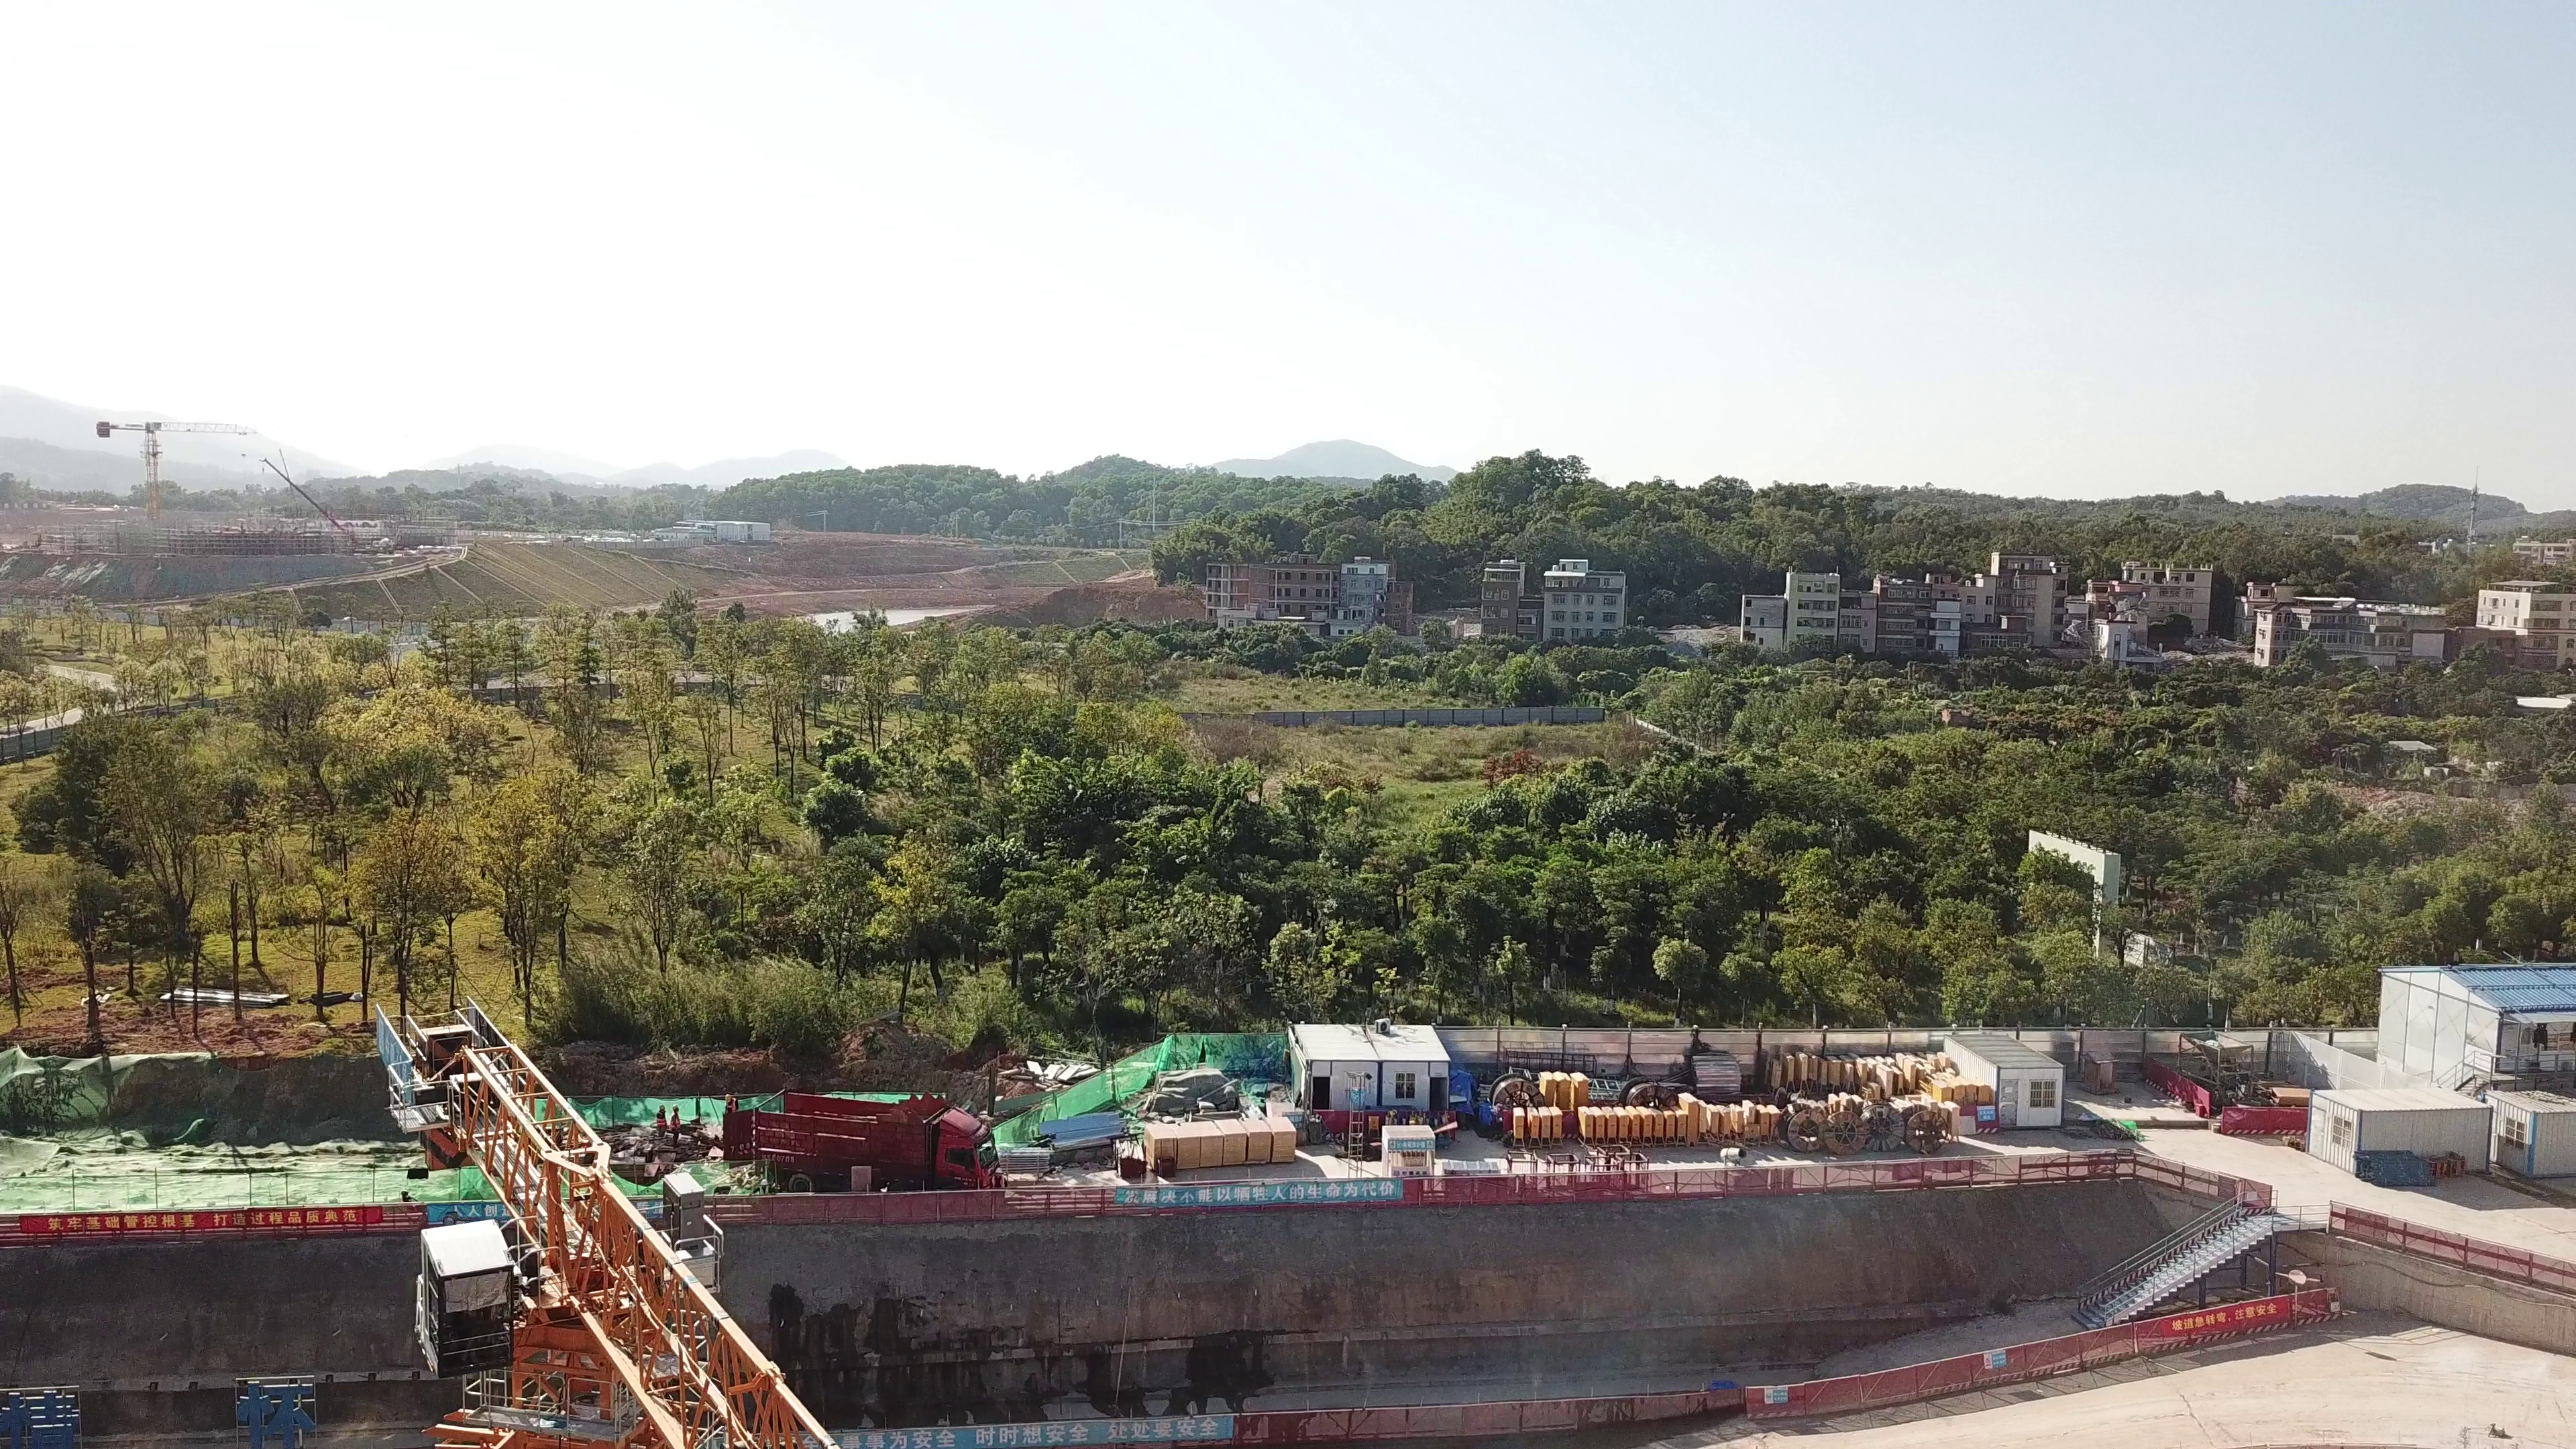fence: (818, 1375, 1858, 1449), (1503, 1014, 2240, 1077), (830, 1182, 1868, 1218)
helmet: (658, 1105, 666, 1111), (725, 1094, 733, 1103), (673, 1105, 679, 1111)
person: (650, 1102, 671, 1140), (718, 1091, 747, 1115), (668, 1106, 682, 1138)
scaffold: (1005, 1138, 1051, 1180), (1104, 1134, 1146, 1173)
slogan: (789, 1409, 1265, 1448), (1116, 1183, 1422, 1214), (42, 1203, 381, 1230), (438, 1197, 685, 1226), (2165, 1293, 2292, 1343)
vest: (669, 1112, 681, 1130), (655, 1114, 665, 1129), (726, 1101, 737, 1112)
wood: (1146, 1122, 1304, 1171)
